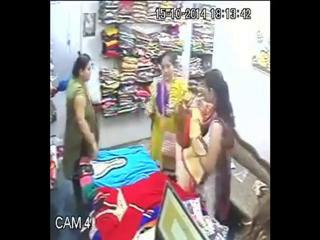Normal: (62, 54, 100, 210), (147, 52, 194, 174)
